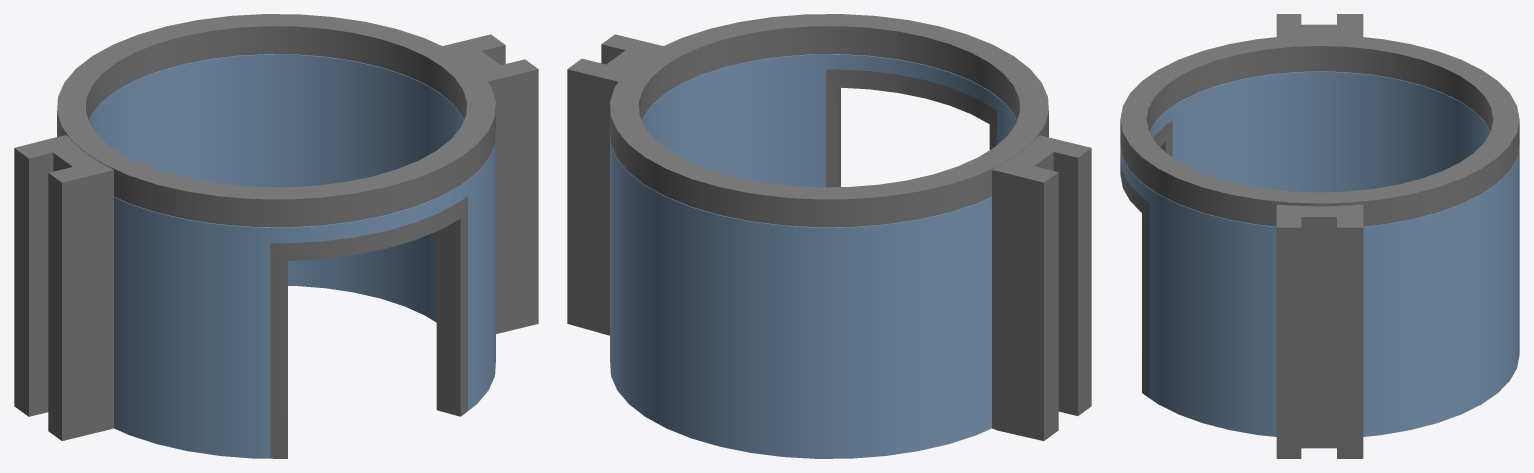
File: SM_ElevFloor.FBX
3 views of the same model, side by side, from view 1: azimuth 30°, elevation 25°; view 2: azimuth 150°, elevation 25°; view 3: azimuth 270°, elevation 25° (orthographic). The views are drawn at different scales.
Visible parts, largest first — view 1: SM_ElevFloor; view 2: SM_ElevFloor; view 3: SM_ElevFloor.
Boxes of the visible parts, left/top/right/bottom form: SM_ElevFloor: left=14, top=14, right=538, bottom=458; SM_ElevFloor: left=567, top=14, right=1091, bottom=458; SM_ElevFloor: left=1120, top=14, right=1519, bottom=458.
Size of the model in its own units: 577 by 300 by 460.
